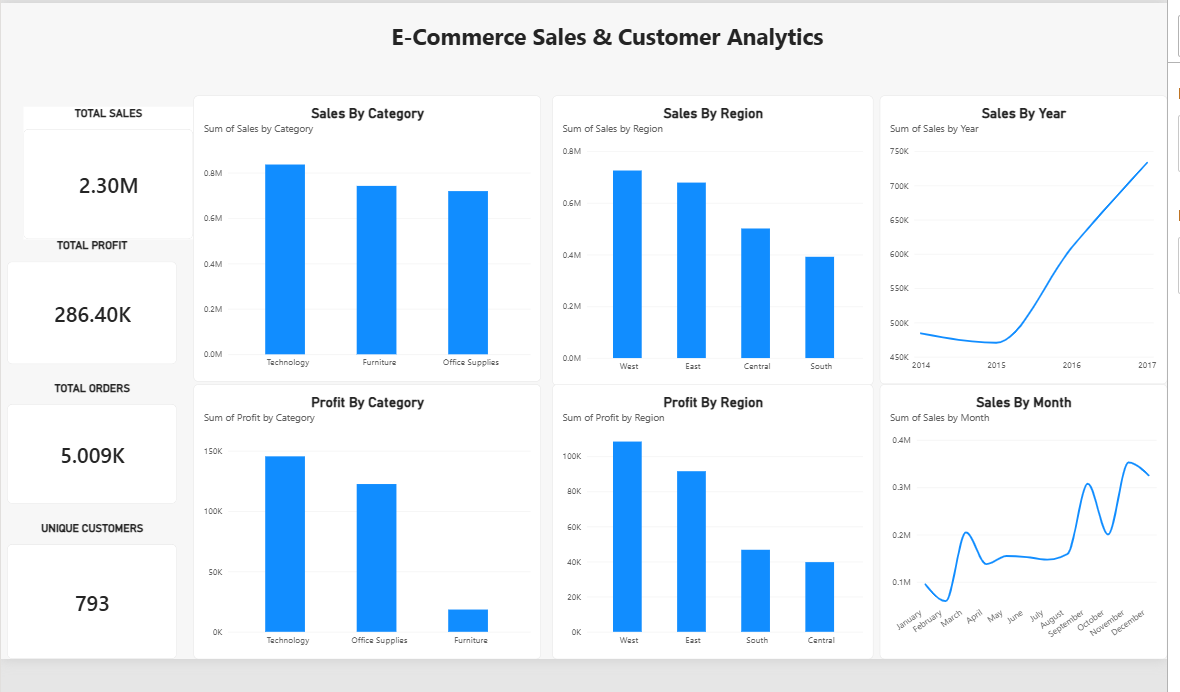

Layout of this report page (visuals, bound fields, positions):
{"tool":"powerbi","page":{"name":"Executive Overview","canvas":[1920,1080],"ordinal":0},"visuals":[{"type":"cardVisual","title":"TOTAL SALES","fields":{"Data":["Sum(superstore_cleaned.Sales)"]},"box":[37,170.8,279.9,218.2],"z":0},{"type":"cardVisual","title":"TOTAL PROFIT","fields":{"Data":["Sum(superstore_cleaned.Profit)"]},"box":[10.3,389,279.9,205.8],"z":1000},{"type":"cardVisual","title":"TOTAL ORDERS","fields":{"Data":["Count(superstore_cleaned.Order ID)"]},"box":[10.3,623.7,279.9,201.7],"z":2000},{"type":"cardVisual","title":"UNIQUE CUSTOMERS","fields":{"Data":["Count(superstore_cleaned.Customer ID)"]},"box":[10.3,854.2,279.9,226.4],"z":3000},{"type":"clusteredColumnChart","title":" Sales By Category","fields":{"Category":["superstore_cleaned.Category"],"Y":["Sum(superstore_cleaned.Sales)"]},"box":[317,152.3,572.2,471.4],"z":4000},{"type":"clusteredColumnChart","title":"Sales By Region","fields":{"Category":["superstore_cleaned.Region"],"Y":["Sum(superstore_cleaned.Sales)"]},"box":[907.7,152.3,529,477.5],"z":5000},{"type":"clusteredColumnChart","title":"Profit By Category","fields":{"Category":["superstore_cleaned.Category"],"Y":["Sum(superstore_cleaned.Profit)"]},"box":[317,627.8,572.2,452.8],"z":6000},{"type":"clusteredColumnChart","title":"Profit By Region","fields":{"Category":["superstore_cleaned.Region"],"Y":["Sum(superstore_cleaned.Profit)"]},"box":[907.7,627.8,529,452.8],"z":7000},{"type":"lineChart","title":"Sales By Year","fields":{"Category":["superstore_cleaned.Order Date.Variation.Date Hierarchy.Year","superstore_cleaned.Order Date.Variation.Date Hierarchy.Quarter","superstore_cleaned.Order Date.Variation.Date Hierarchy.Month","superstore_cleaned.Order Date.Variation.Date Hierarchy.Day"],"Y":["Sum(superstore_cleaned.Sales)"]},"box":[1447,152.3,473.4,475.5],"z":8000},{"type":"lineChart","title":"Sales By Month","fields":{"Category":["superstore_cleaned.Order Date.Variation.Date Hierarchy.Month"],"Y":["Sum(superstore_cleaned.Sales)"]},"box":[1447,627.8,473.4,452.8],"z":9000},{"type":"textbox","box":[549.6,28.8,897.4,55.6],"z":10000}]}

Visuals, with their boxes on the page's 1920x1080 design canvas (x1, y1, x2, y2). These are canvas units, not pixel positions in the 1180x692 screenshot, which may show the page scaled, cropped or inside an application window:
"TOTAL SALES" cardVisual: left=37, top=171, right=317, bottom=389
"TOTAL PROFIT" cardVisual: left=10, top=389, right=290, bottom=595
"TOTAL ORDERS" cardVisual: left=10, top=624, right=290, bottom=825
"UNIQUE CUSTOMERS" cardVisual: left=10, top=854, right=290, bottom=1081
" Sales By Category" clusteredColumnChart: left=317, top=152, right=889, bottom=624
"Sales By Region" clusteredColumnChart: left=908, top=152, right=1437, bottom=630
"Profit By Category" clusteredColumnChart: left=317, top=628, right=889, bottom=1081
"Profit By Region" clusteredColumnChart: left=908, top=628, right=1437, bottom=1081
"Sales By Year" lineChart: left=1447, top=152, right=1920, bottom=628
"Sales By Month" lineChart: left=1447, top=628, right=1920, bottom=1081
textbox: left=550, top=29, right=1447, bottom=84
